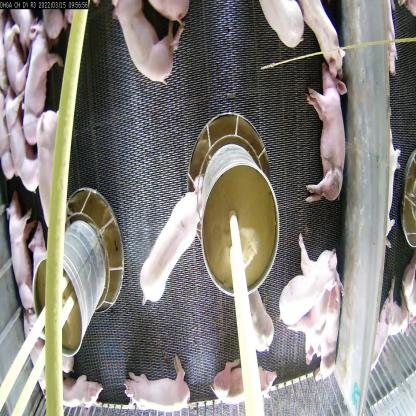Pig: (138, 177, 202, 301), (304, 62, 348, 206), (114, 0, 184, 90), (29, 109, 78, 236), (16, 31, 62, 161), (278, 232, 338, 325), (295, 0, 347, 77), (127, 365, 202, 415), (3, 198, 34, 315), (5, 85, 36, 179), (215, 362, 280, 403), (260, 0, 304, 60), (49, 369, 105, 416), (242, 290, 278, 355), (315, 292, 342, 364)
